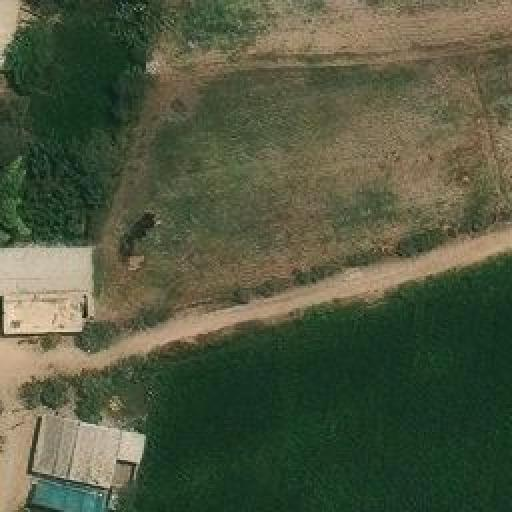manzanas: (17, 409, 149, 510), (0, 244, 99, 337)
